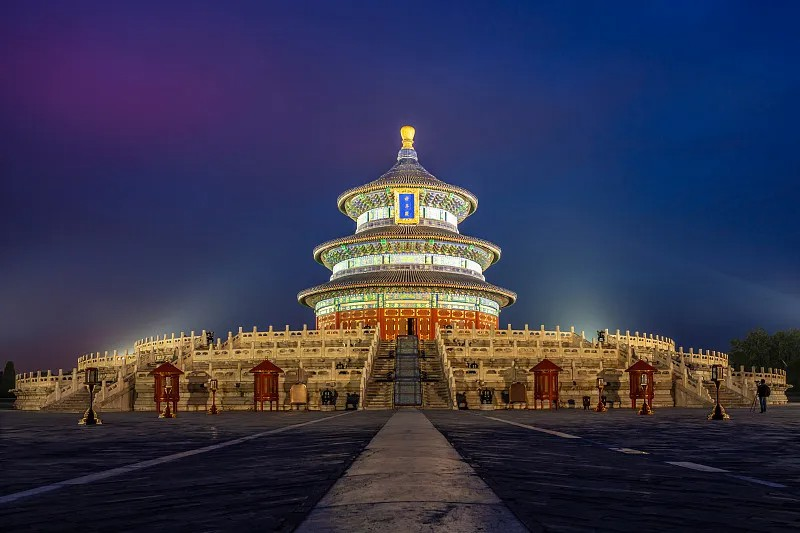Heaven: (297, 125, 518, 339)
